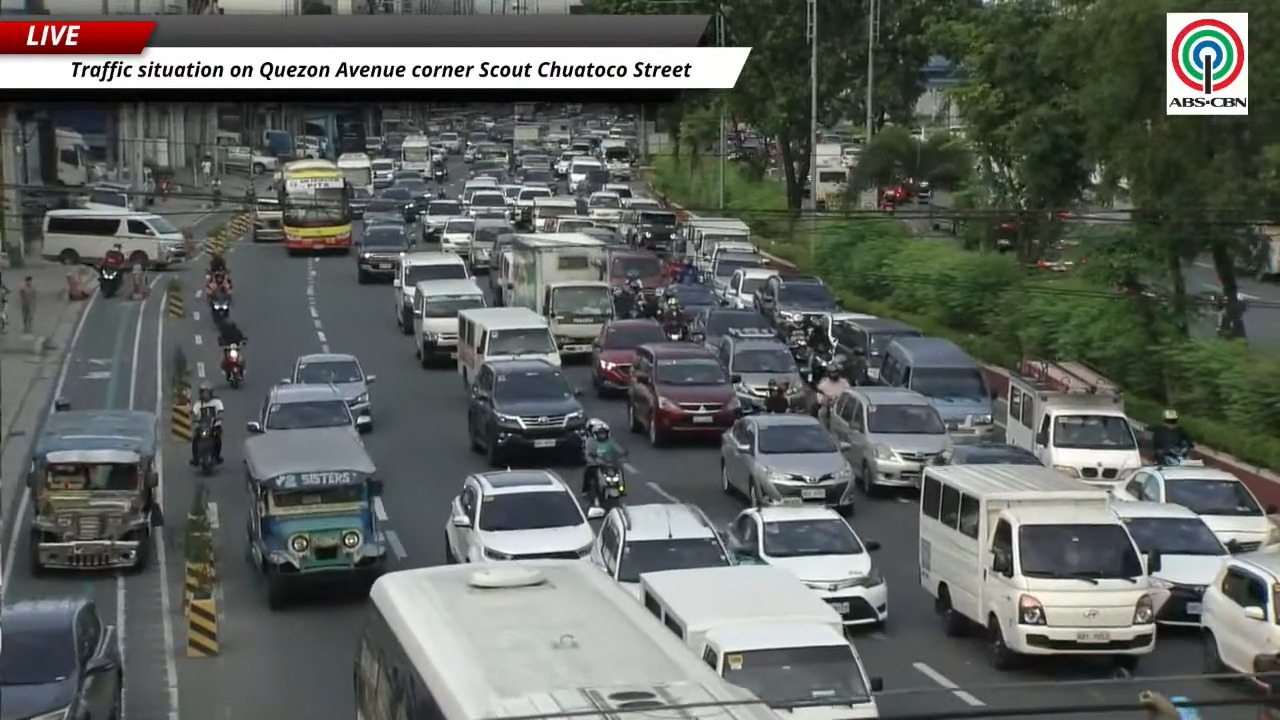bus: (354, 559, 778, 719), (278, 160, 352, 254), (337, 152, 372, 193)
car: (728, 504, 887, 625), (1113, 461, 1279, 552), (0, 597, 123, 719), (445, 469, 602, 563), (1112, 502, 1229, 626), (822, 386, 952, 495), (591, 503, 732, 597), (721, 414, 853, 514), (467, 359, 585, 467), (627, 342, 740, 446), (1201, 549, 1279, 675), (716, 328, 813, 411), (283, 353, 375, 431), (830, 319, 922, 384), (591, 318, 665, 397), (247, 383, 356, 433), (754, 275, 838, 326), (711, 254, 776, 308), (353, 223, 411, 283), (691, 307, 771, 347), (622, 200, 677, 250), (467, 218, 515, 274), (607, 247, 664, 293), (930, 442, 1042, 465), (383, 178, 432, 221), (421, 199, 465, 241), (660, 283, 720, 313), (219, 146, 277, 174), (376, 185, 418, 222), (439, 217, 476, 255), (362, 196, 404, 227), (467, 189, 506, 217), (587, 191, 621, 223), (521, 167, 558, 194), (579, 226, 622, 245), (372, 158, 395, 189), (349, 187, 372, 218), (603, 182, 633, 202), (624, 197, 662, 209), (392, 169, 421, 184)
motorcycle: (592, 447, 627, 512), (596, 463, 626, 511), (195, 418, 216, 475), (223, 343, 244, 388), (808, 347, 835, 382), (613, 288, 642, 318), (1157, 444, 1191, 466), (99, 267, 120, 297), (210, 295, 231, 325), (663, 324, 688, 341), (211, 186, 222, 208), (433, 168, 446, 183)
truck: (918, 465, 1169, 670), (640, 564, 882, 719), (1001, 359, 1142, 487), (504, 233, 613, 356), (400, 134, 433, 179), (816, 165, 850, 208), (812, 143, 843, 167), (513, 123, 544, 144), (514, 103, 535, 122)
